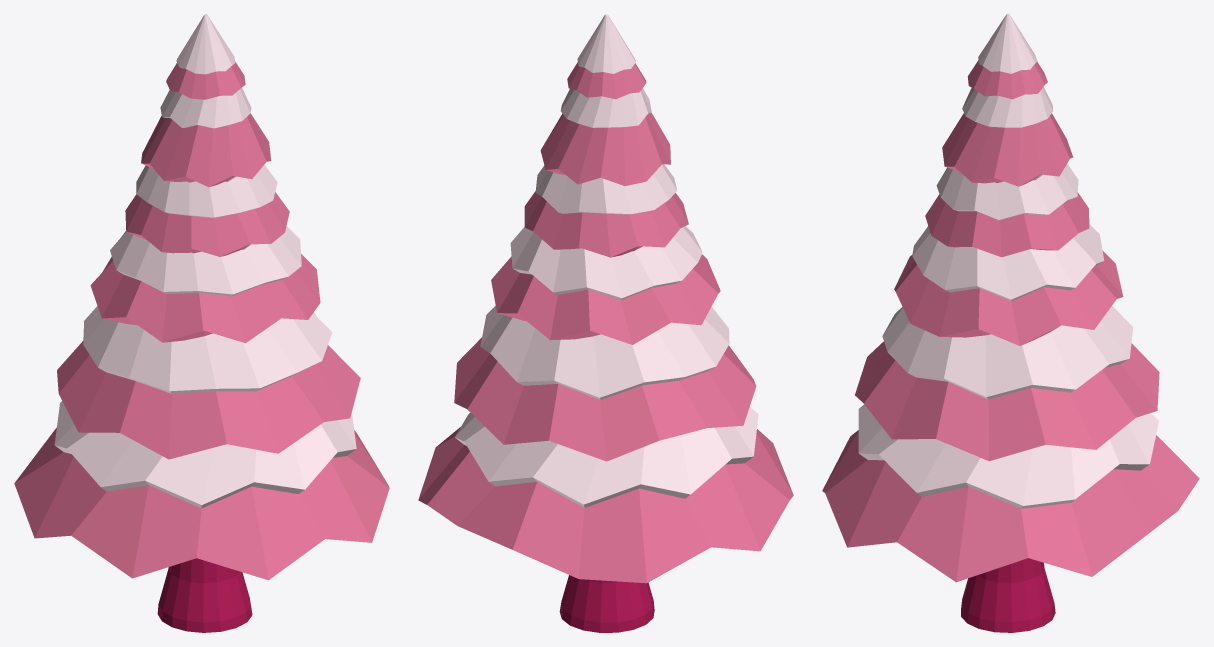
File: tree3.glb
3 renders of one model, left to right at view 1: azimuth 30°, elevation 25°; view 2: azimuth 150°, elevation 25°; view 3: azimuth 270°, elevation 25°, orthographic.
Parts seen in each view (by area): view 1: Cylinder.005; view 2: Cylinder.005; view 3: Cylinder.005.
Boxes of the visible parts, x1=… form: Cylinder.005: x1=14, y1=14, x2=389, y2=632; Cylinder.005: x1=418, y1=14, x2=793, y2=632; Cylinder.005: x1=822, y1=14, x2=1199, y2=632.
Size of the model in its own units: 3.89 by 6.88 by 3.93.
